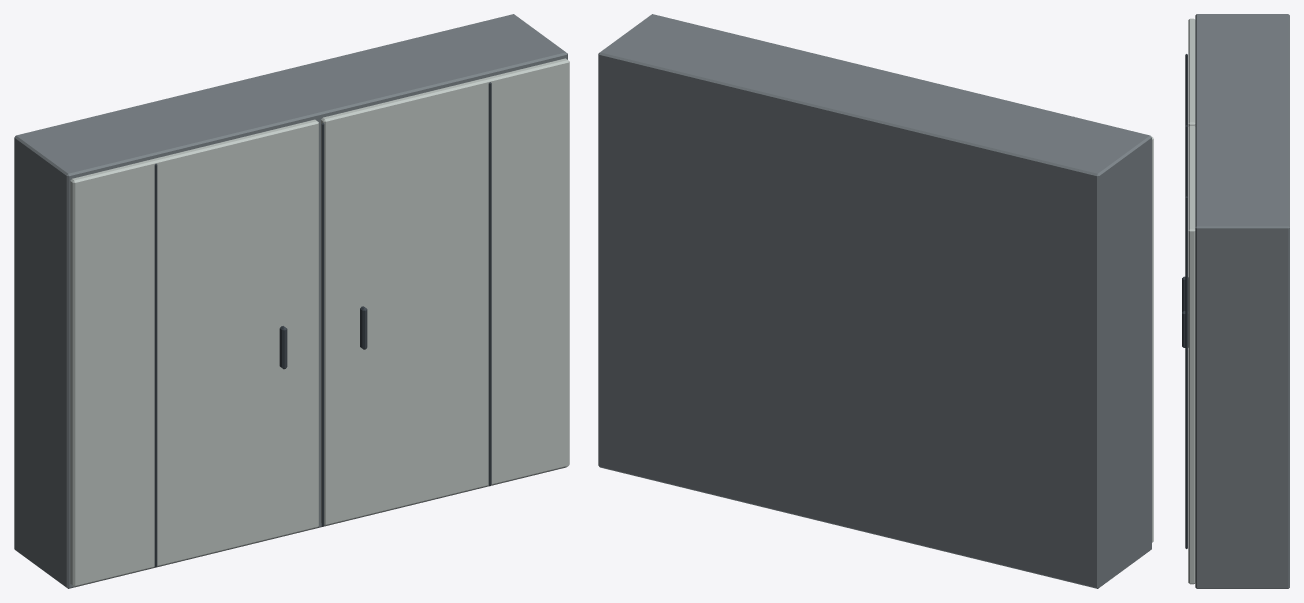
File: ArchiveCabinetBank.fbx
3 renders of one model, left to right at view 1: azimuth 30°, elevation 25°; view 2: azimuth 150°, elevation 25°; view 3: azimuth 270°, elevation 25°, orthographic. The views are drawn at different scales.
Visible parts, largest first — view 1: ArchiveCabinetBank; view 2: ArchiveCabinetBank; view 3: ArchiveCabinetBank.
Part boxes in pixels (box(x1,y1,x2,y2)): ArchiveCabinetBank: box(14, 14, 569, 588); ArchiveCabinetBank: box(598, 14, 1153, 588); ArchiveCabinetBank: box(1182, 14, 1289, 588).
Bounding box in the file's own units: 240 × 190 × 51.25.
Materials: 1 (1 with a texture image).
